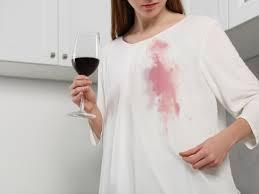oil: (142, 40, 185, 128)
